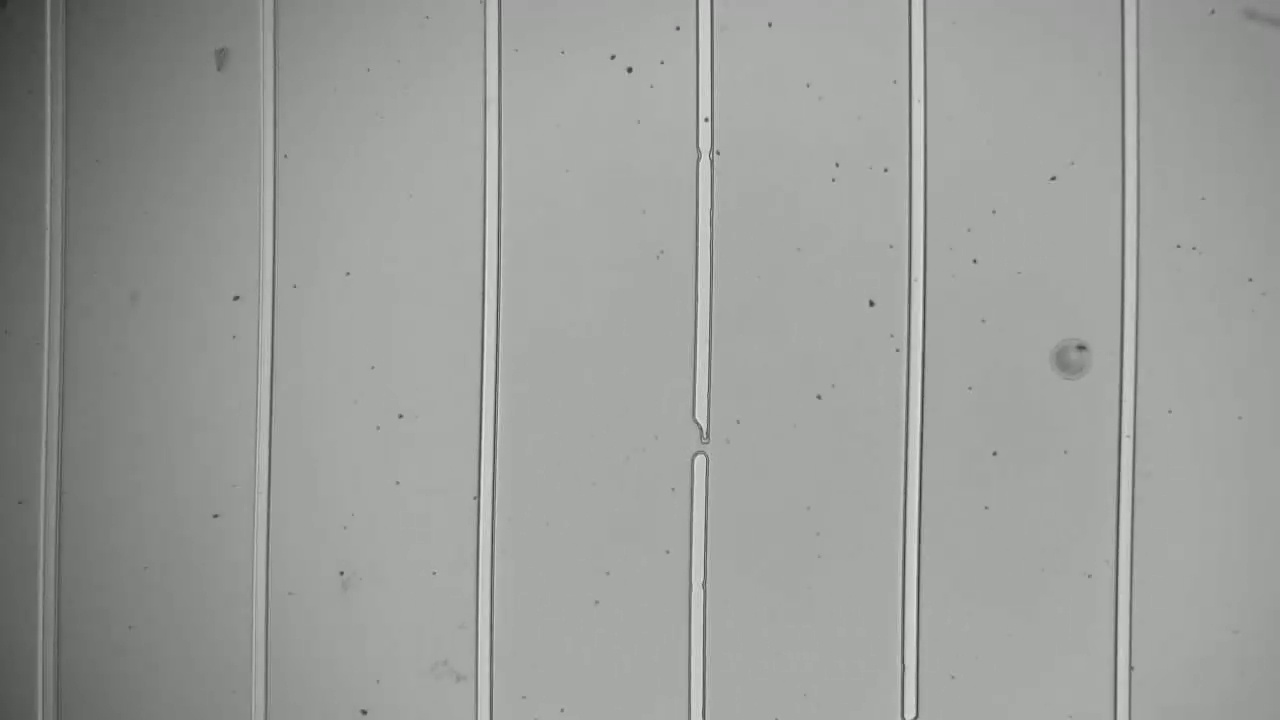edge_bite: (689, 136, 719, 171)
open: (682, 409, 716, 468)
